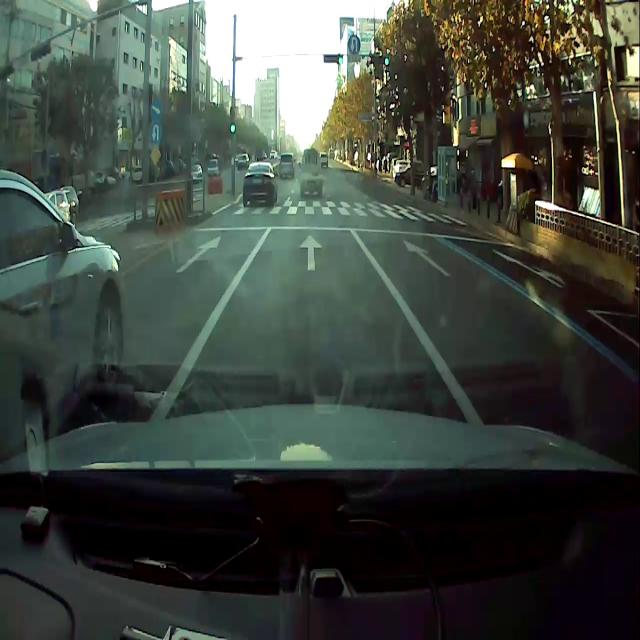Green Light: (384, 55, 389, 66), (338, 55, 343, 65)
